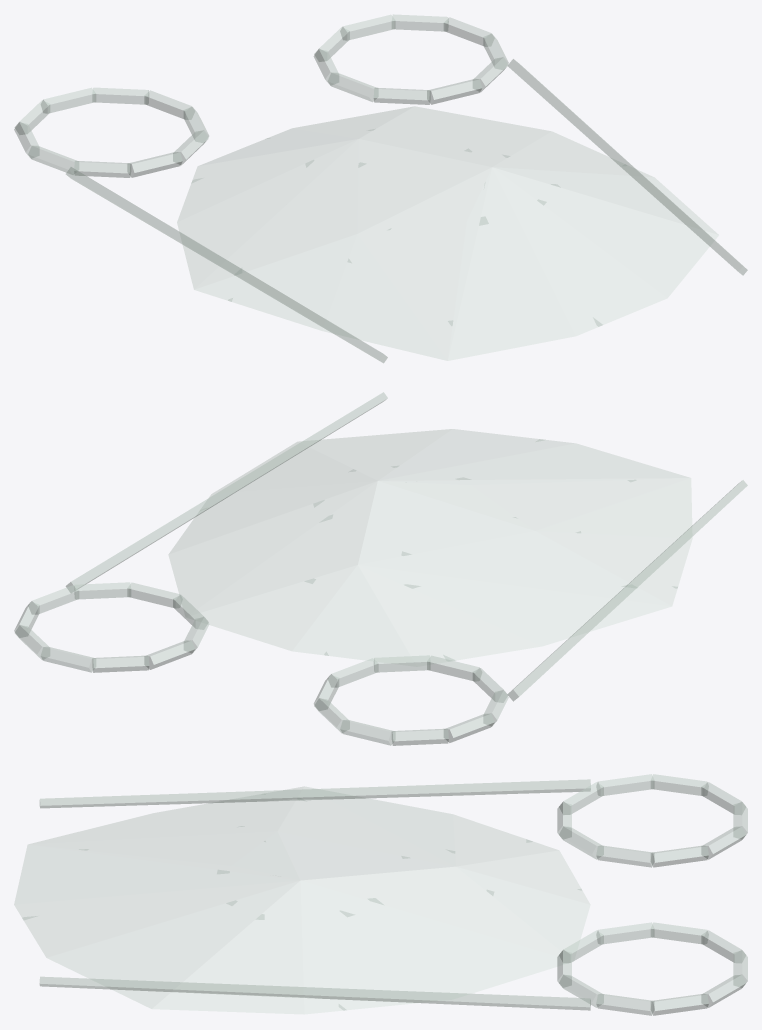
Rendered from bag_plastic.glb.
3 views of the same model, one above another, from view 1: azimuth 30°, elevation 25°; view 2: azimuth 150°, elevation 25°; view 3: azimuth 270°, elevation 25° (orthographic).
Visible parts, largest first — view 1: block_wrinkled film, block_side seam -1, block_side seam 1, block_handle 18, block_handle 13, block_handle -18, block_handle -13, block_handle -12, block_handle 12, block_handle 17, block_handle -17, block_handle 14 (+7 smaller); view 2: block_wrinkled film, block_side seam 1, block_side seam -1, block_handle -11, block_handle 16, block_handle -16, block_handle 11, block_handle -17, block_handle 12, block_handle 17, block_handle -12, block_handle 15 (+7 smaller); view 3: block_wrinkled film, block_side seam -1, block_side seam 1, block_handle -10, block_handle 10, block_handle -19, block_handle 14, block_handle 19, block_handle -14, block_handle -15, block_handle 15, block_handle -18 (+11 smaller).
Part boxes in pixels (box(x1,y1,x2,y2)): block_wrinkled film: box(177, 106, 718, 360); block_side seam -1: box(66, 167, 387, 363); block_side seam 1: box(508, 59, 747, 275); block_handle 18: box(392, 14, 448, 31); block_handle 13: box(373, 88, 430, 104); block_handle -18: box(92, 87, 148, 104); block_handle -13: box(74, 161, 130, 177); block_handle -12: box(127, 152, 182, 177); block_handle 12: box(427, 79, 481, 104); block_handle 17: box(340, 14, 395, 40); block_handle -17: box(41, 87, 95, 113); block_handle 14: box(328, 72, 378, 101); block_wrinkled film: box(168, 429, 692, 666); block_side seam 1: box(66, 392, 387, 592); block_side seam -1: box(508, 480, 747, 701); block_handle -11: box(374, 655, 430, 672); block_handle 16: box(92, 655, 149, 672); block_handle -16: box(392, 728, 448, 745); block_handle 11: box(74, 582, 130, 599); block_handle -17: box(340, 720, 395, 745); block_handle 12: box(127, 582, 182, 607); block_handle 17: box(41, 647, 95, 672); block_handle -12: box(427, 655, 481, 681); block_handle 15: box(144, 640, 194, 669); block_wrinkled film: box(14, 786, 590, 1014); block_side seam -1: box(39, 779, 590, 808); block_side seam 1: box(39, 976, 590, 1010); block_handle -10: box(596, 845, 654, 867); block_handle 10: box(596, 994, 654, 1015); block_handle -19: box(651, 845, 708, 867); block_handle 14: box(596, 922, 654, 944); block_handle 19: box(651, 994, 708, 1015); block_handle -14: box(596, 774, 654, 795); block_handle -15: box(651, 774, 708, 795); block_handle 15: box(651, 922, 708, 944); block_handle -18: box(701, 826, 745, 859).
Bounding box in the file's own units: 0.2057 × 0.0215 × 0.272.
Materials: 1 (1 with a texture image).
